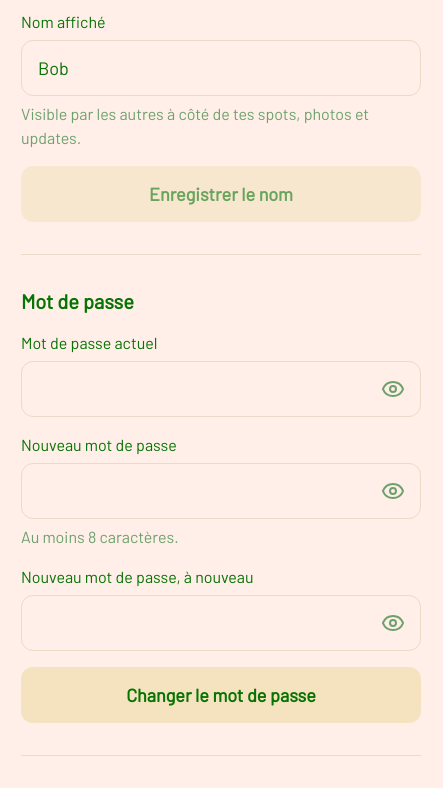
Scenario: AccountScreen › signale un mot de passe actuel incorrect et conserve la saisie
(page scrolled)
Type "mauvais-mdp" into the password field labelled "Mot de passe actuel" at coordinates (221, 389), box [21,361,421,417]
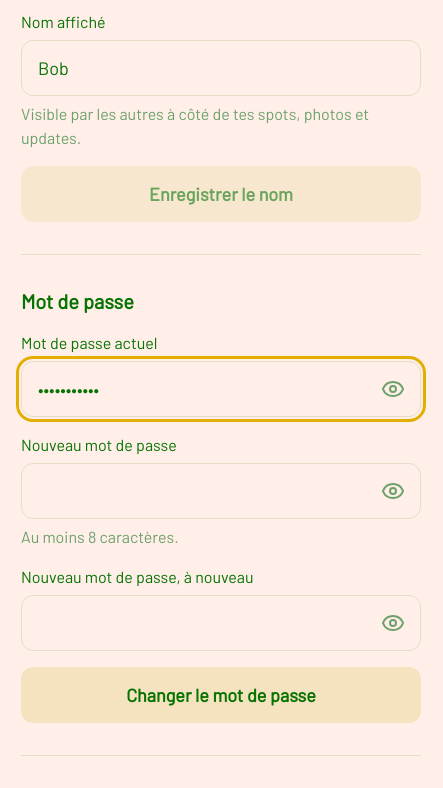
Type "nouveau-mdp" into the password field labelled "Nouveau mot de passe" at coordinates (221, 491), box [21,463,421,519]
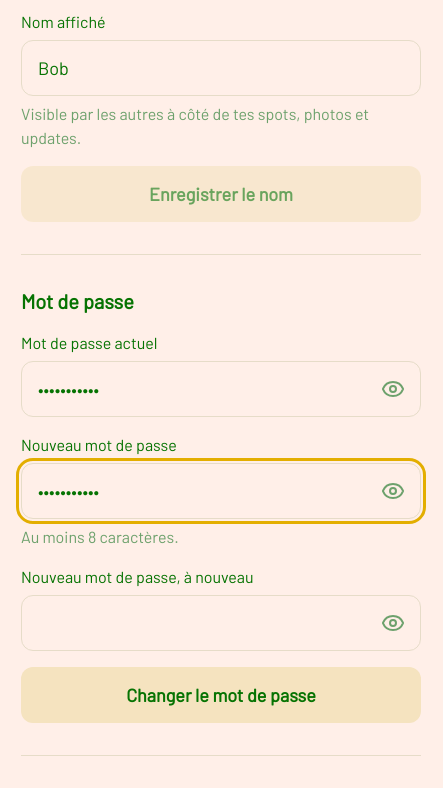
Type "nouveau-mdp" into the password field labelled "Nouveau mot de passe, à nouveau" at coordinates (221, 623), box [21,595,421,651]
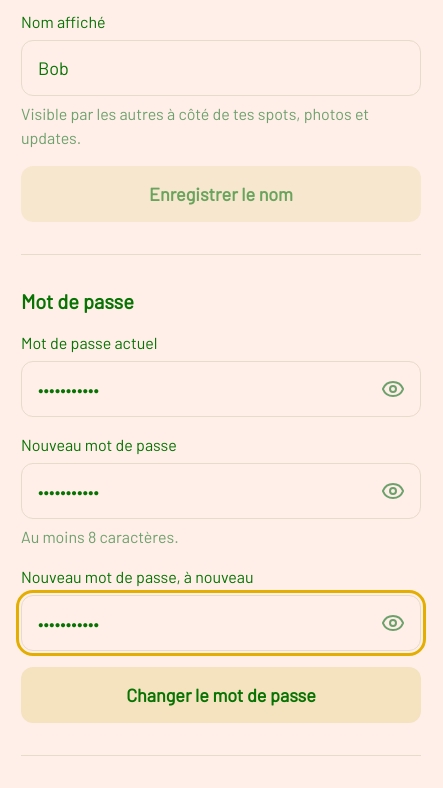
Click the button "Changer le mot de passe" at coordinates (221, 695), box [21,667,421,723]
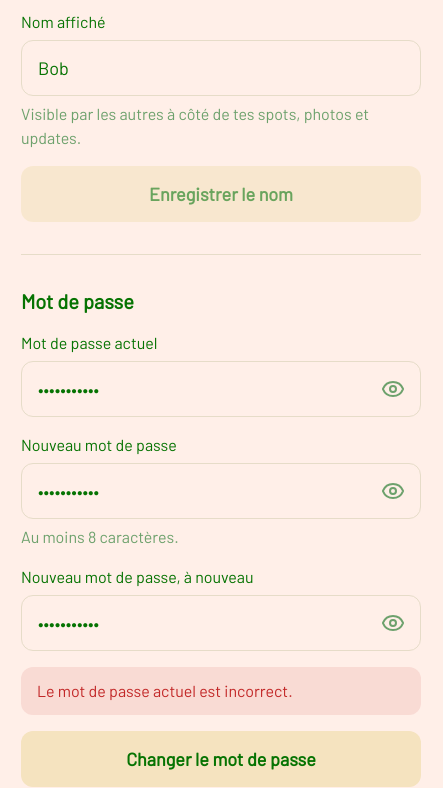
Expected: the message reads "Le mot de passe actuel est incorrect.", [37,681,293,700]
